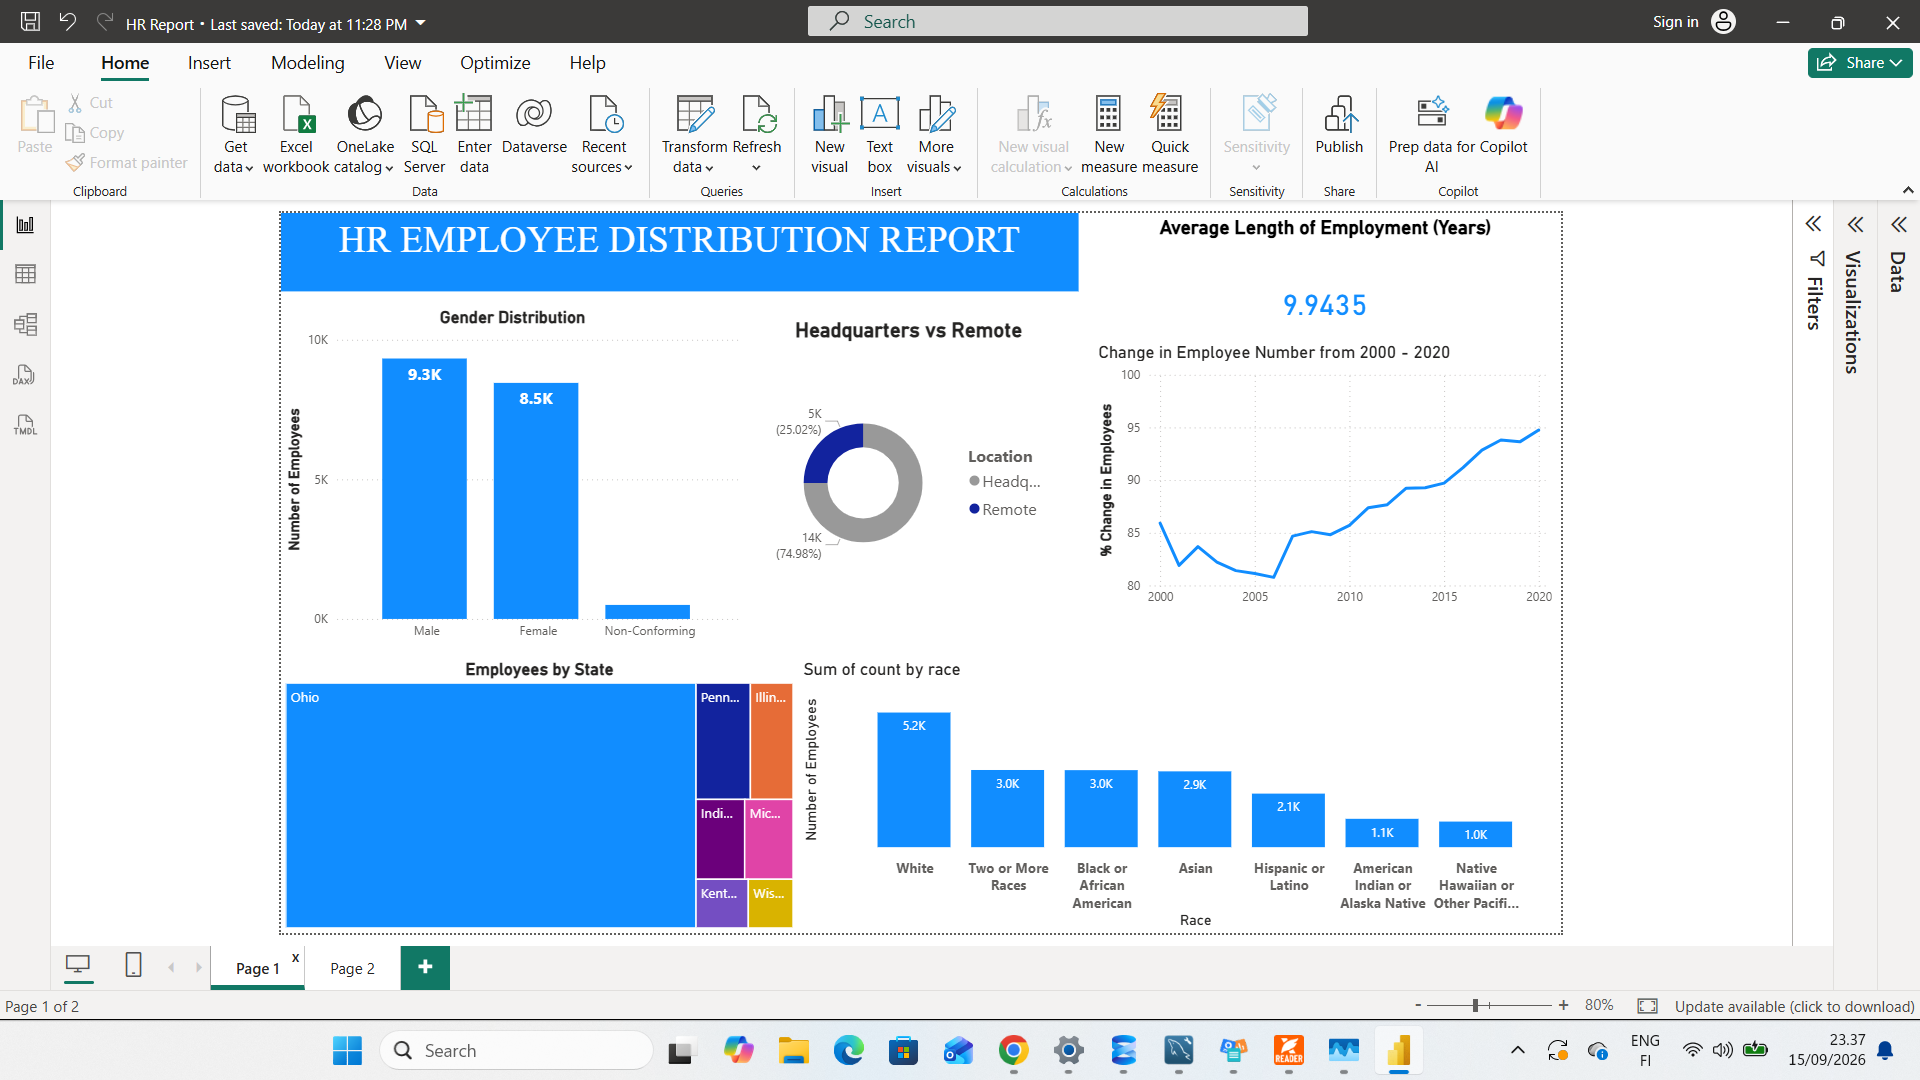

The dashboard page shown, as its layout file describes it:
{"tool":"powerbi","page":{"name":"Page 1","canvas":[1280,720],"ordinal":0},"visuals":[{"type":"textbox","box":[0,0,797.3,78.3],"z":0},{"type":"card","title":"Average Length of Employment (Years)","fields":{"Values":["Min(avg_len for terminated emp.Column1)"]},"box":[807.1,3.7,473.2,150.4],"z":1000},{"type":"columnChart","title":"Gender Distribution","fields":{"Category":["Gender.gender"],"Y":["Sum(Gender.gender_groups)"]},"box":[0,94.2,463.5,342.4],"z":2000},{"type":"donutChart","title":"Headquarters vs Remote","fields":{"Y":["Sum(location.count)"],"Category":["location.location"]},"box":[472,105.2,310.6,306.9],"z":3000},{"type":"lineChart","title":"Change in Employee Number from 2000 - 2020","fields":{"Y":["Sum(percentage.net_change_percent)"],"Category":["percentage.year"]},"box":[812,128.4,463.5,273.9],"z":4000},{"type":"treemap","title":"Employees by State","fields":{"Group":["emp by location.location_state"],"Values":["Sum(emp by location.count)"]},"box":[0,446.3,517.3,273.9],"z":5000},{"type":"clusteredColumnChart","fields":{"Y":["Sum(Race.count)"],"Category":["Race.race"]},"box":[517.3,446.3,758.2,273.9],"z":6000}]}

Visuals, with their boxes on the page's 1280x720 design canvas (x1, y1, x2, y2). These are canvas units, not pixel positions in the 1920x1080 screenshot, which may show the page scaled, cropped or inside an application window:
textbox: crop(0, 0, 797, 78)
"Average Length of Employment (Years)" card: crop(807, 4, 1280, 154)
"Gender Distribution" columnChart: crop(0, 94, 464, 437)
"Headquarters vs Remote" donutChart: crop(472, 105, 783, 412)
"Change in Employee Number from 2000 - 2020" lineChart: crop(812, 128, 1276, 402)
"Employees by State" treemap: crop(0, 446, 517, 720)
clusteredColumnChart - Sum(Race.count) x Race.race: crop(517, 446, 1276, 720)
